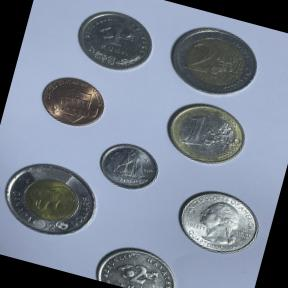coin: (160, 15, 270, 108), (0, 153, 105, 248), (167, 179, 272, 265), (156, 92, 258, 176), (30, 66, 116, 136), (90, 236, 187, 288), (92, 137, 166, 199)
